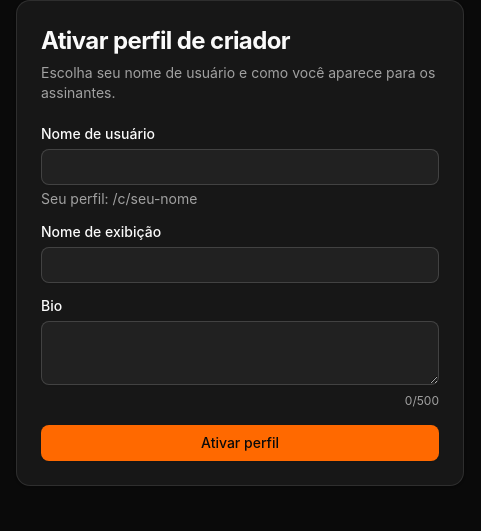
Test: ActivateCreatorPage › shows server validation fields
Type "davi" into the field labelled "Nome de usuário" at (240, 167), box [41,149,439,185]
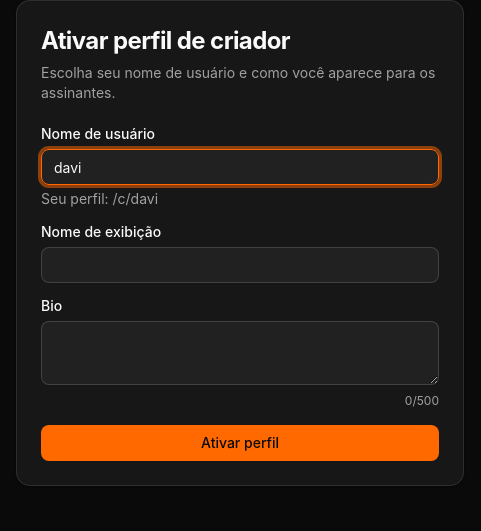
Type "Davi Lima" into the field labelled "Nome de exibição" at (240, 265), box [41,247,439,283]
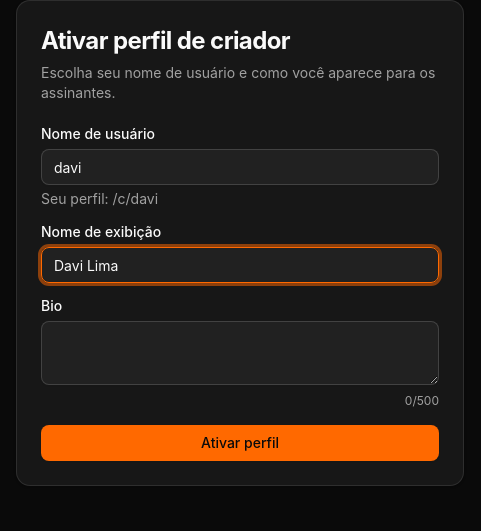
Click the button "Ativar perfil" at (240, 443), box [41,425,439,461]
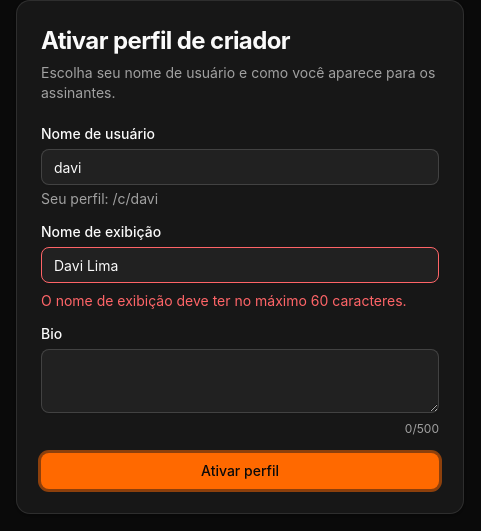
Now the text "O nome de exibição deve ter no máximo 60 caracteres." is shown, box [41,291,439,311]
